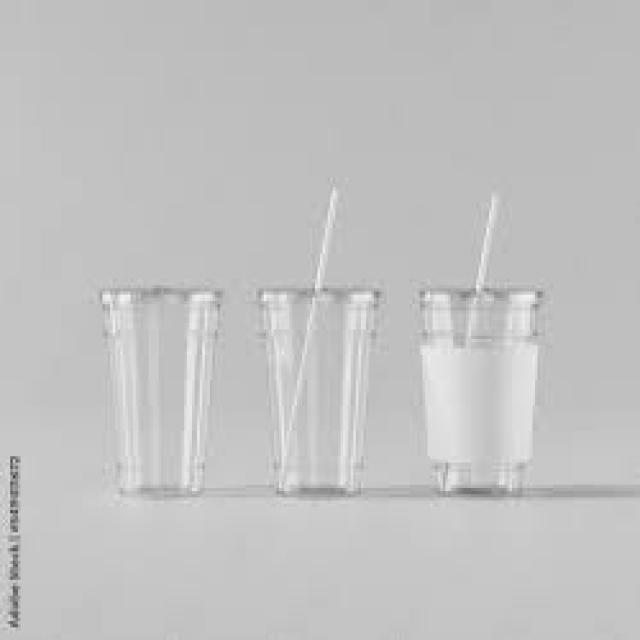cup: (400, 252, 563, 544), (239, 242, 395, 536), (86, 268, 242, 535)
